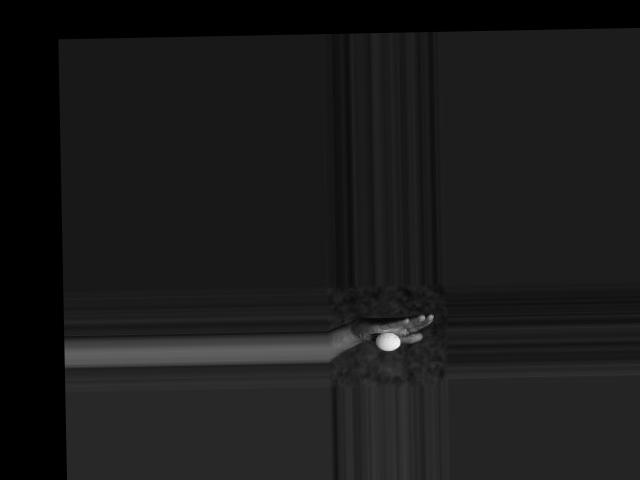egg: (375, 331, 400, 351)
